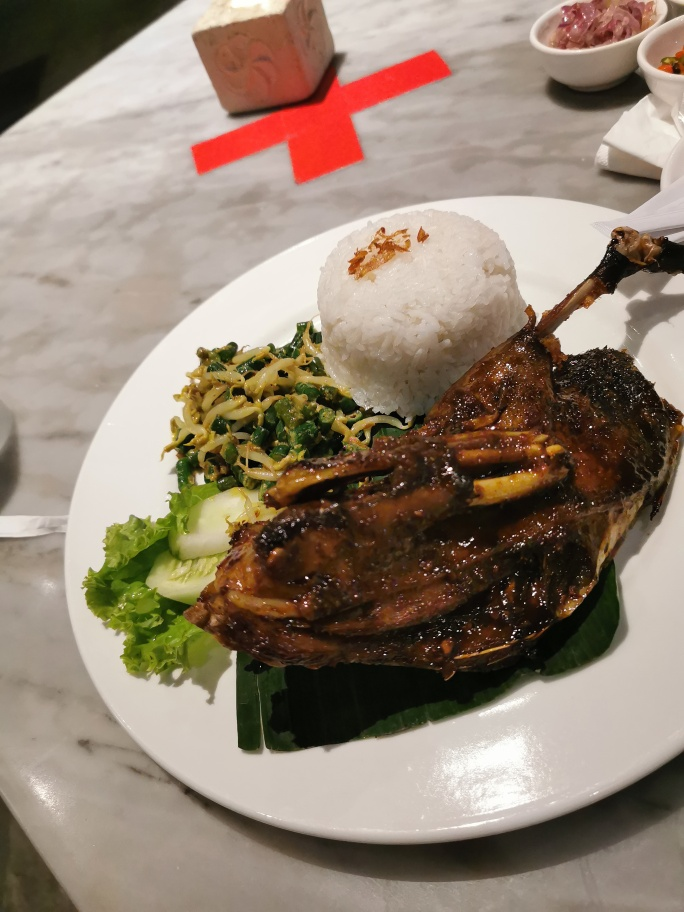bebek bakar: (177, 236, 681, 681)
nasi putih: (311, 203, 529, 412)
